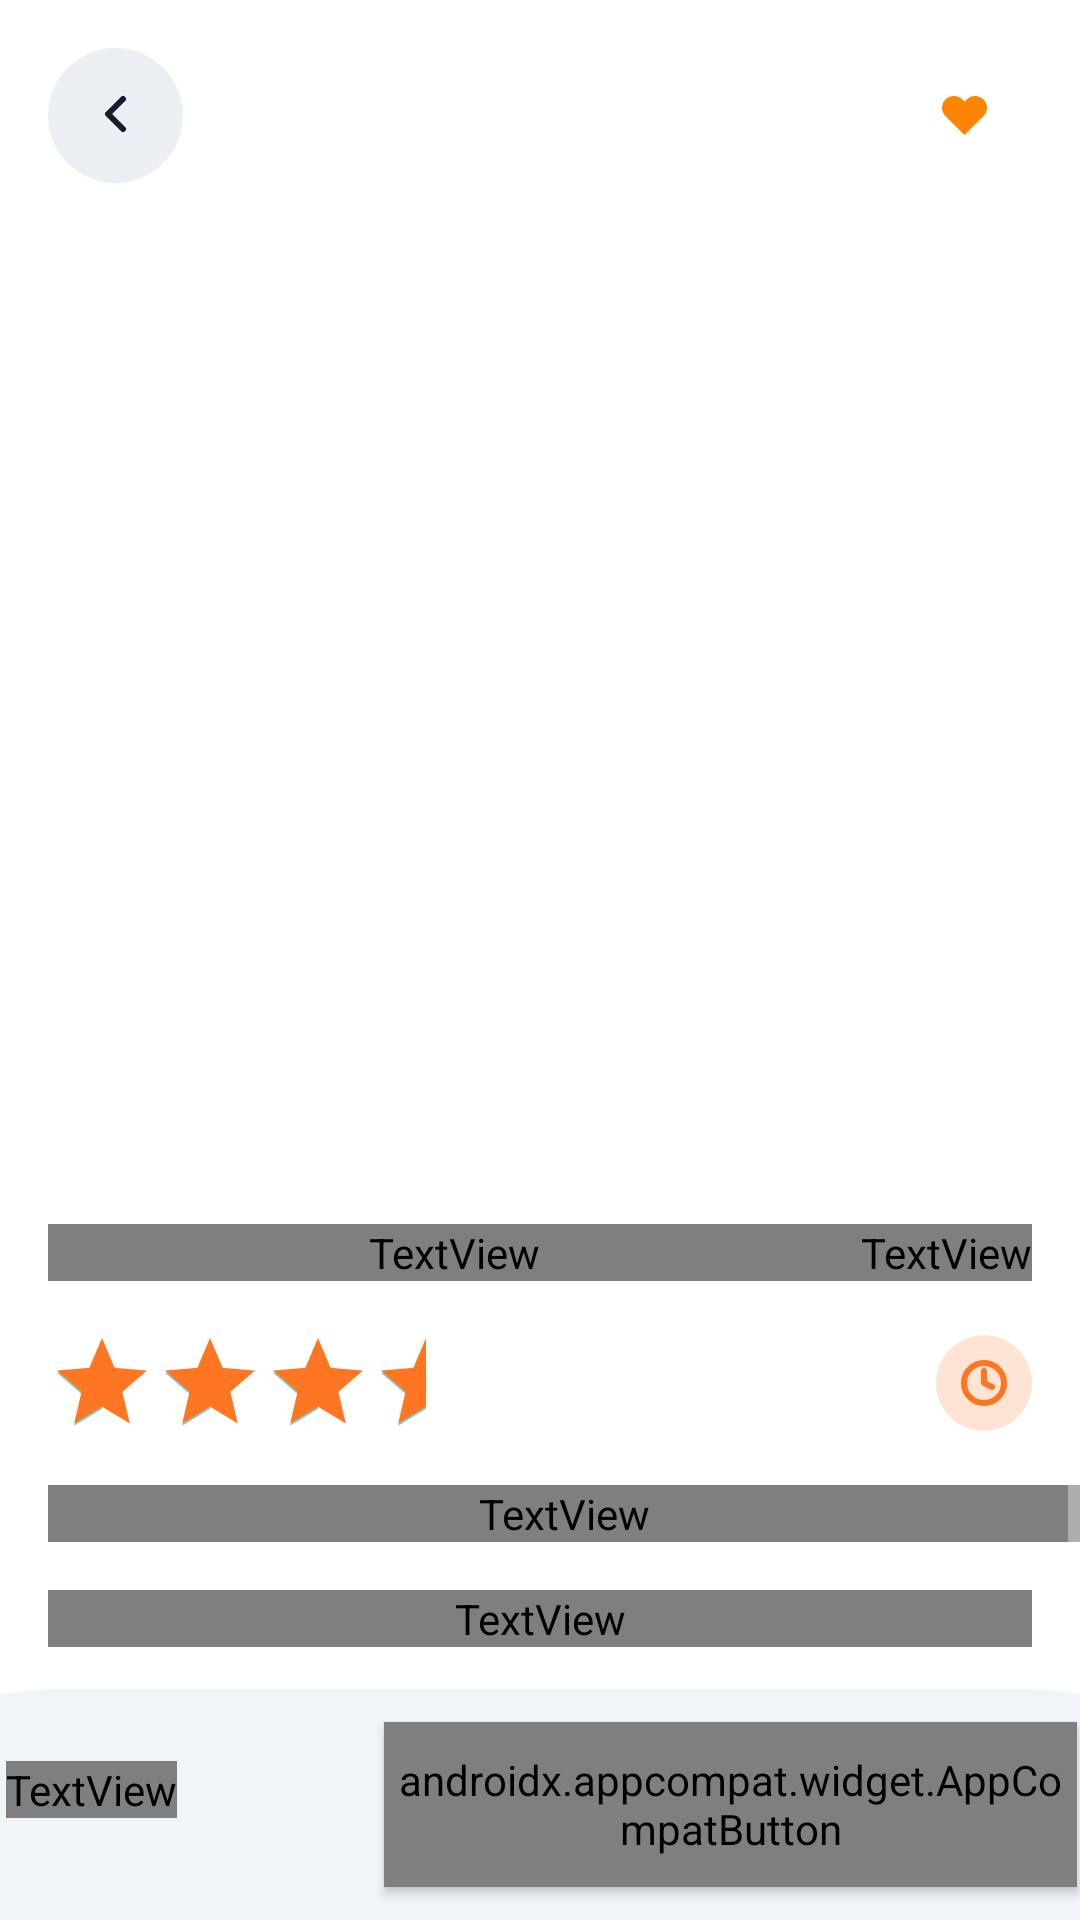

Where to tap for icons on this 1080 x 1920 app screen, as (x=x, y=y):
facourite: (x=964, y=115)
previous: (x=115, y=115)
time with round shape: (x=984, y=1383)
